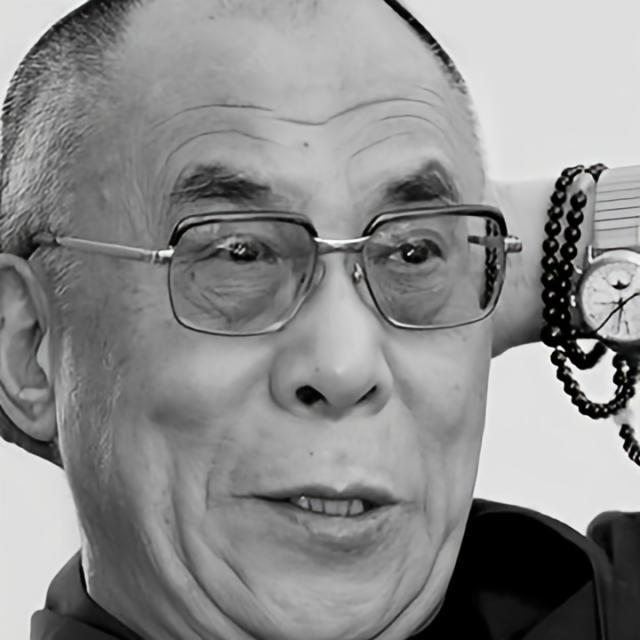surprise: (56, 0, 510, 640)
